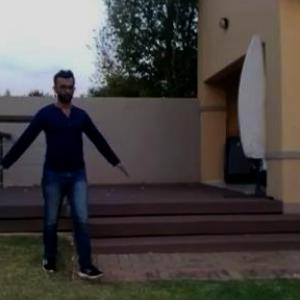land: (0, 69, 130, 283)
